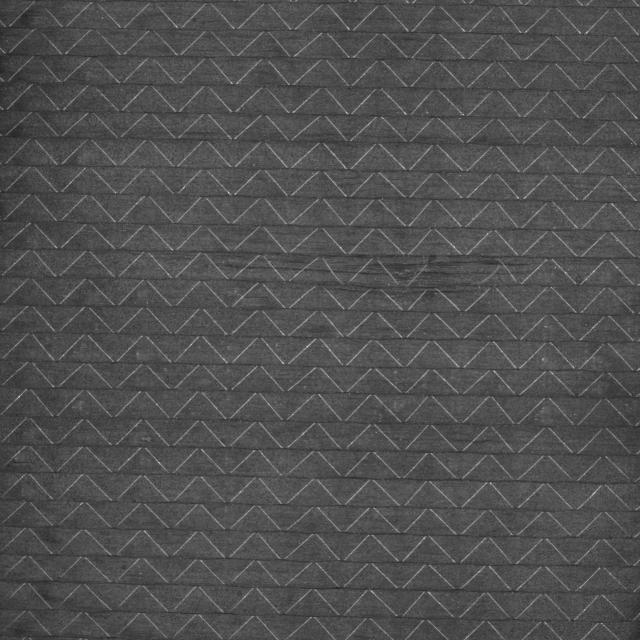carbon-fibre-defect: (400, 255, 522, 292)
